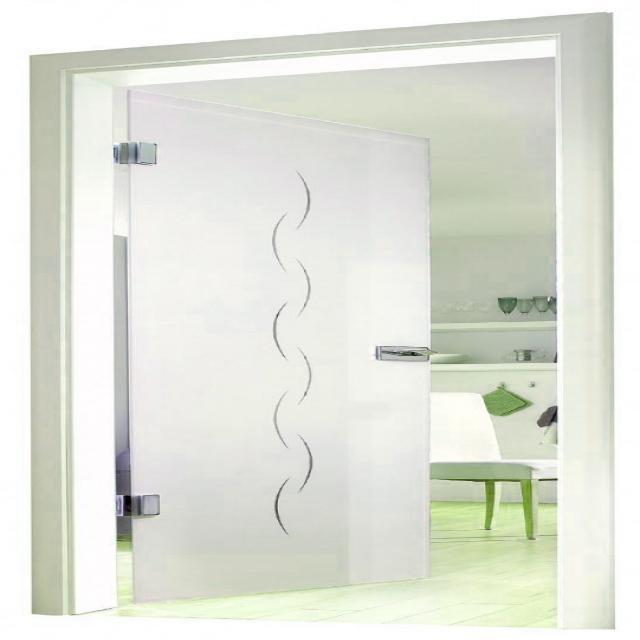door: (123, 88, 432, 603)
